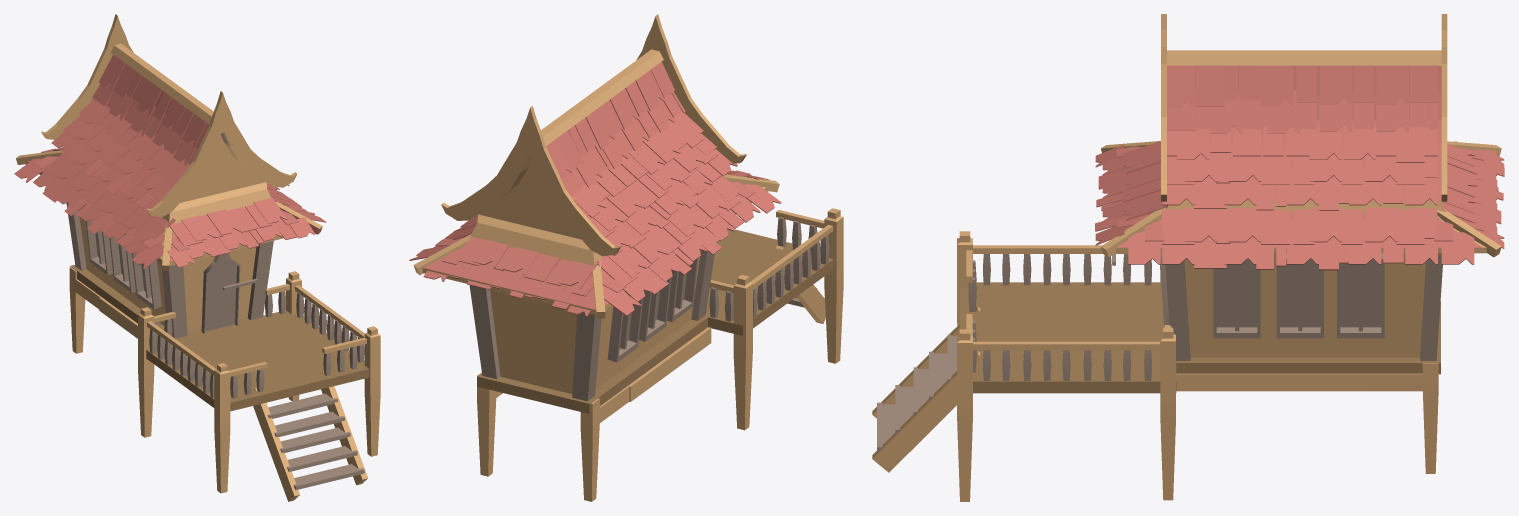
File: house.fbx
3 renders of one model, left to right at view 1: azimuth 30°, elevation 25°; view 2: azimuth 150°, elevation 25°; view 3: azimuth 270°, elevation 25°, orthographic. The views are drawn at different scales.
Visible parts, largest first — view 1: polySurface647, pCube128, polySurface237, polySurface241, polySurface657, polySurface662, pCube127, polySurface248, polySurface691, polySurface619, polySurface232, polySurface636 (+21 smaller); view 2: polySurface647, pCube128, pCube127, polySurface662, polySurface241, polySurface691, polySurface694, polySurface692, polySurface234, polySurface236, polySurface232, polySurface247 (+27 smaller); view 3: polySurface647, pCube128, pCube127, polySurface692, polySurface226, polySurface230, polySurface228, polySurface619, polySurface693, polySurface663, polySurface657, polySurface682 (+52 smaller).
Boxes of the visible parts, x1,y1,x2,y2 form: polySurface647: [26, 14, 297, 338]; pCube128: [146, 310, 369, 411]; polySurface237: [201, 253, 240, 333]; polySurface241: [214, 363, 230, 493]; polySurface657: [364, 326, 380, 456]; polySurface662: [138, 307, 154, 437]; pCube127: [70, 265, 275, 333]; polySurface248: [253, 388, 300, 501]; polySurface691: [69, 267, 116, 353]; polySurface619: [321, 372, 367, 485]; polySurface232: [132, 252, 161, 309]; polySurface636: [293, 464, 364, 490]; polySurface647: [422, 14, 767, 401]; pCube128: [704, 229, 833, 335]; pCube127: [477, 316, 707, 413]; polySurface662: [733, 274, 752, 430]; polySurface241: [824, 208, 843, 363]; polySurface691: [580, 373, 646, 501]; polySurface694: [629, 327, 711, 401]; polySurface692: [477, 372, 502, 476]; polySurface234: [607, 298, 643, 362]; polySurface236: [639, 270, 672, 341]; polySurface232: [667, 257, 698, 321]; polySurface247: [750, 224, 833, 289]; polySurface647: [1116, 14, 1496, 360]; pCube128: [959, 282, 1176, 393]; pCube127: [1143, 301, 1440, 374]; polySurface692: [1316, 363, 1438, 473]; polySurface226: [1337, 253, 1384, 338]; polySurface230: [1276, 253, 1323, 338]; polySurface228: [1213, 259, 1260, 338]; polySurface619: [872, 350, 980, 472]; polySurface693: [1176, 373, 1316, 391]; polySurface663: [1160, 327, 1175, 500]; polySurface657: [957, 329, 972, 501]; polySurface682: [973, 341, 1159, 350].
Bounding box in the file's own units: 63.77 × 108 × 141.
